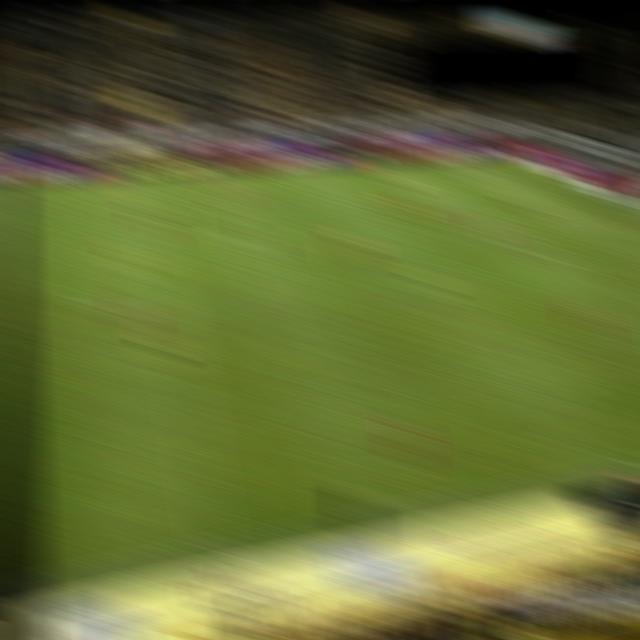bigarea_top_inner: (423, 176, 456, 194)
bigarea_top_outter: (536, 168, 568, 186)
bottom_arc_area_intersection: (548, 250, 581, 268)
corner: (483, 147, 515, 165)
halfcircle_bottom: (155, 299, 189, 319)
halfcircle_top: (141, 225, 173, 244)
midline_bottom_intersection: (193, 537, 232, 563)
midline_top_intersection: (131, 166, 165, 185)
smallarea_top_inner: (548, 194, 581, 212)
smallarea_top_outter: (589, 191, 622, 209)
top_arc_area_intersection: (470, 203, 503, 221)
